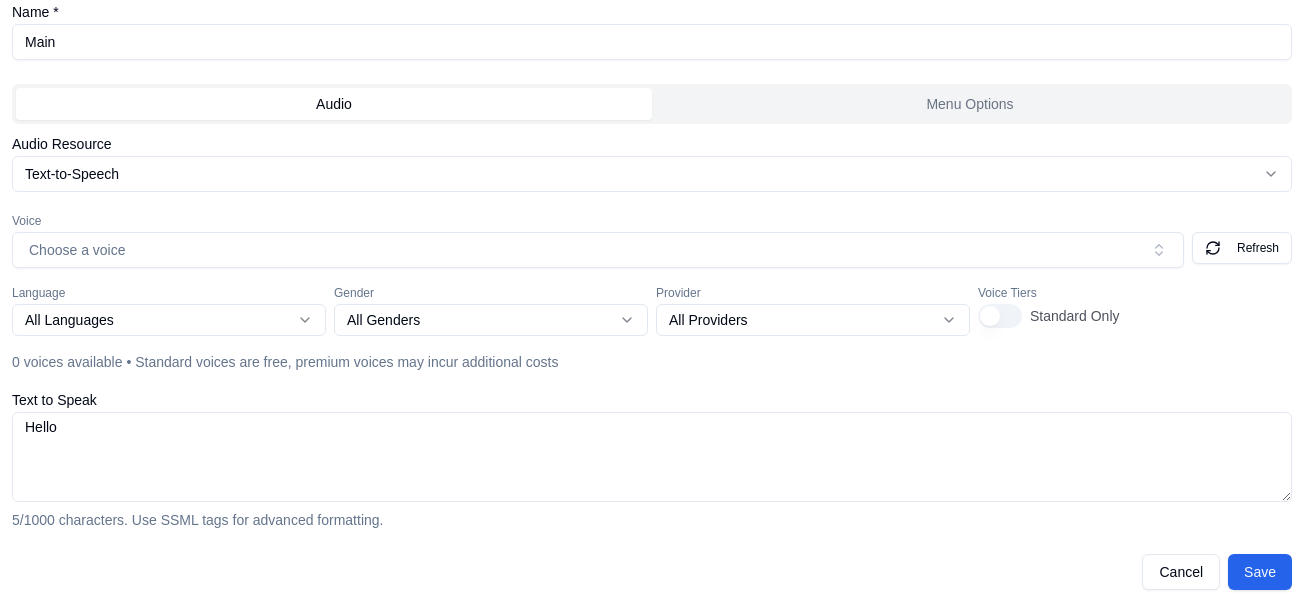
Test: IvrMenuForm › flags a missing option list on the options tab
Click the button "Save": (1260, 572) [1228,554,1292,590]
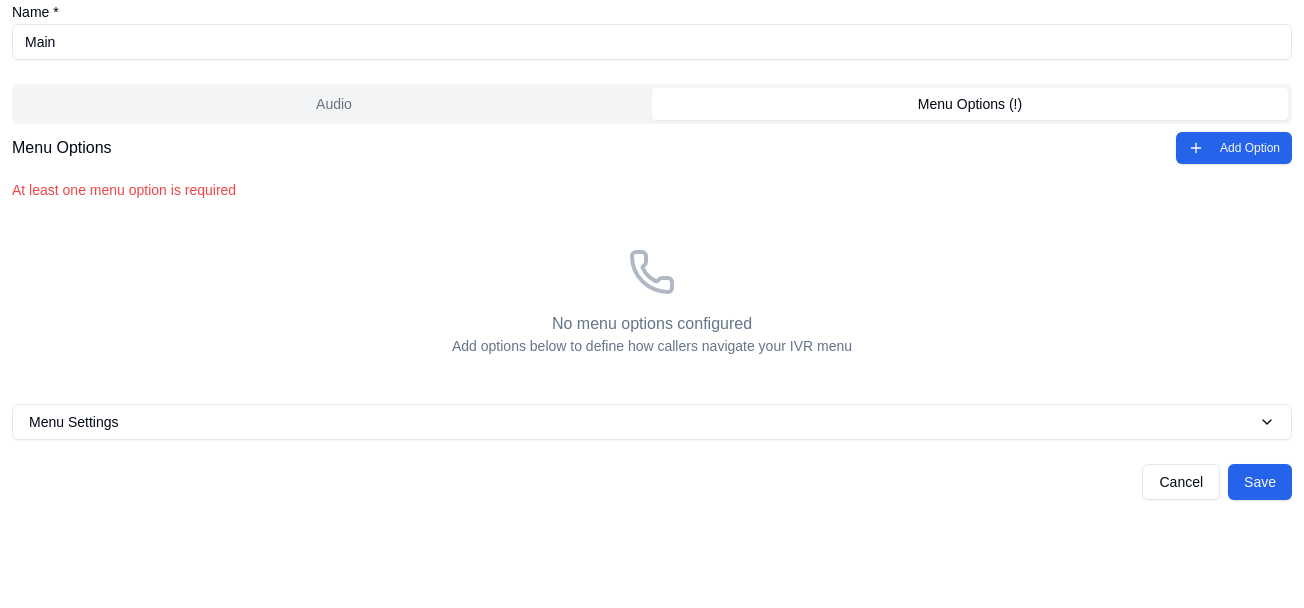
Check: the text "At least one menu option is required" is shown, box [12,182,236,198]
